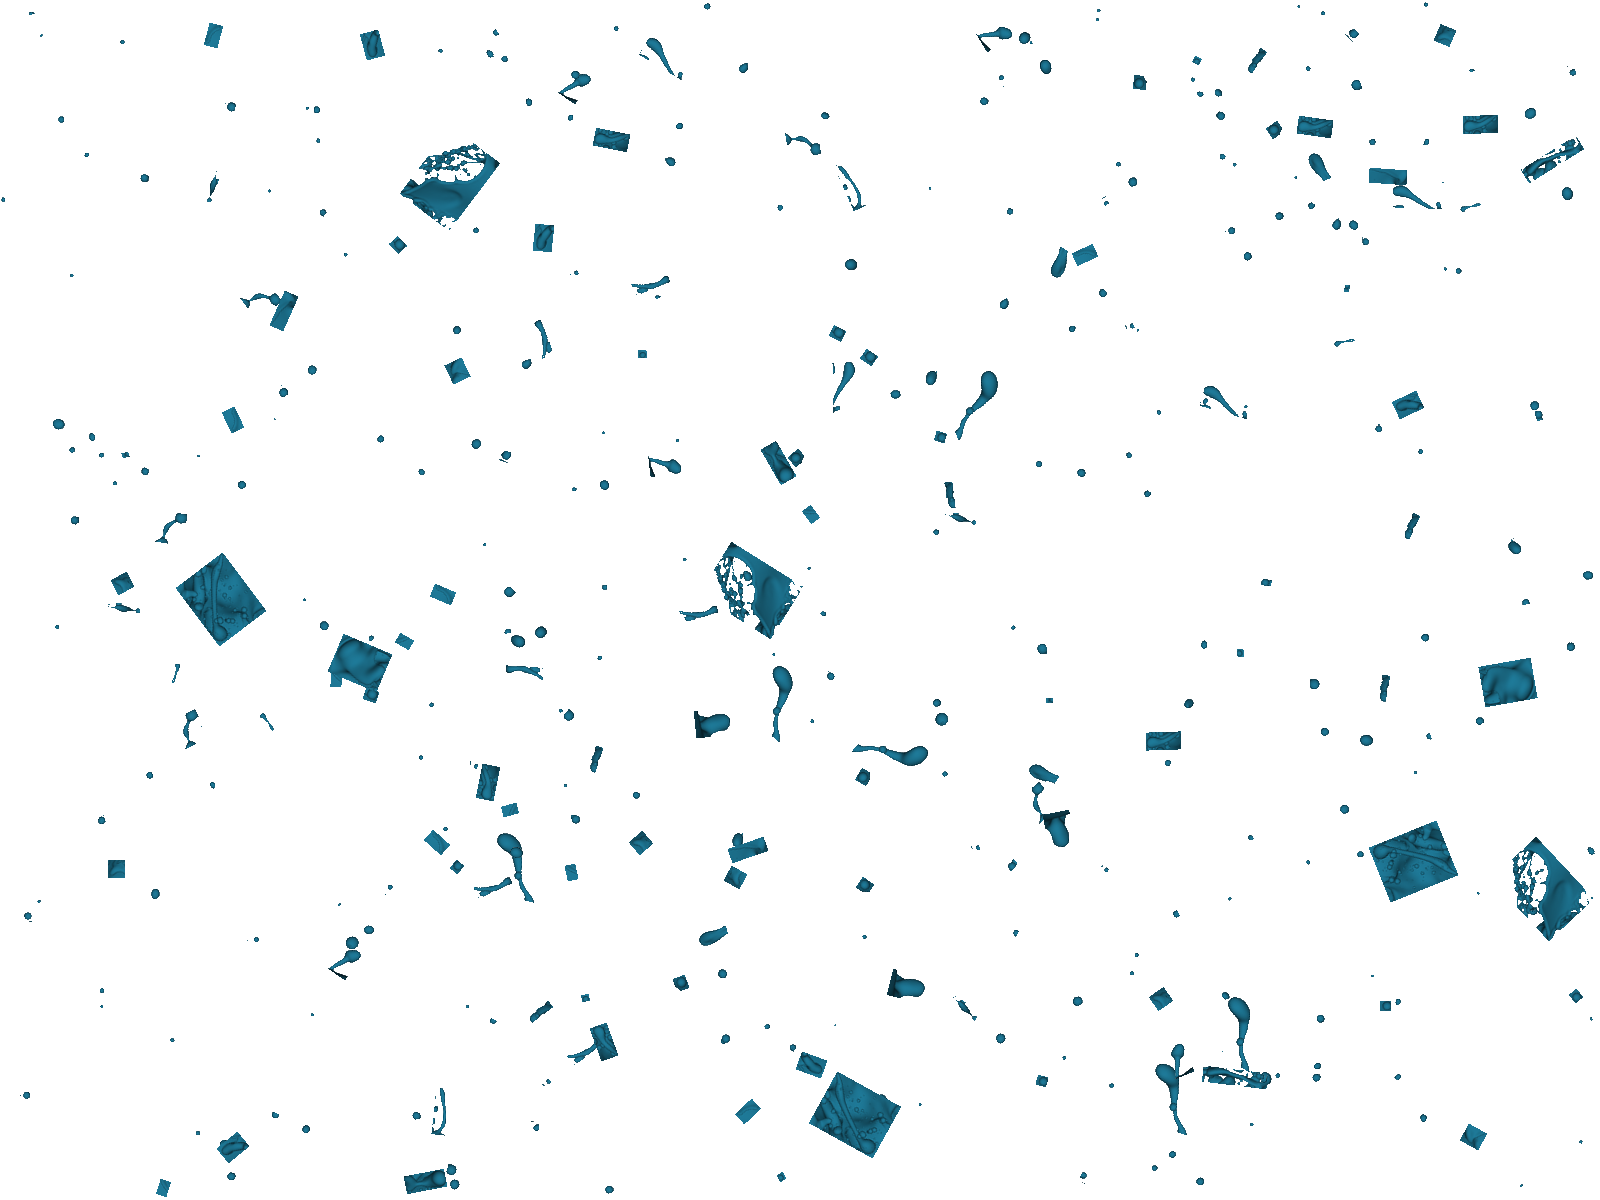Attached ligament: (175, 552, 267, 647), (808, 1071, 902, 1158), (1368, 821, 1459, 903), (1519, 135, 1585, 184), (323, 937, 365, 981), (553, 61, 595, 105), (973, 13, 1017, 53), (760, 440, 797, 487), (1201, 1065, 1269, 1090), (1157, 1039, 1196, 1082), (403, 1168, 449, 1195), (590, 1022, 619, 1063), (648, 447, 685, 478), (215, 1131, 249, 1163), (475, 763, 501, 802), (1391, 389, 1425, 420), (592, 127, 631, 153), (795, 1051, 828, 1079), (1296, 115, 1334, 139), (359, 29, 386, 61), (1461, 113, 1499, 135), (1145, 731, 1182, 751), (532, 223, 556, 253), (1243, 47, 1267, 76), (527, 1000, 554, 1024), (1401, 512, 1421, 541), (587, 745, 603, 774), (1377, 674, 1391, 703), (944, 482, 956, 511)
Detached ligament: (849, 712, 935, 797), (740, 659, 824, 745), (1203, 989, 1283, 1074), (937, 366, 1019, 444), (1136, 1058, 1212, 1137), (483, 827, 554, 904), (637, 34, 704, 87), (1199, 383, 1265, 424), (1017, 782, 1061, 824), (239, 279, 283, 321), (833, 159, 867, 212), (169, 708, 210, 751), (1392, 184, 1455, 211), (831, 362, 857, 424), (563, 1032, 603, 1069), (1043, 246, 1077, 287), (1020, 756, 1060, 792), (469, 871, 513, 901), (154, 509, 188, 547), (784, 126, 821, 160), (627, 268, 671, 297), (528, 319, 556, 363), (1301, 145, 1332, 185), (675, 599, 719, 625), (690, 925, 731, 952), (431, 1084, 451, 1136), (947, 995, 981, 1024), (505, 666, 548, 681), (1330, 330, 1356, 353), (1456, 195, 1482, 218), (254, 710, 280, 732), (944, 511, 976, 527), (205, 170, 220, 203), (108, 603, 140, 615), (169, 662, 184, 684)
bag: (1490, 836, 1595, 942), (399, 125, 501, 232), (698, 541, 804, 640), (328, 633, 393, 693), (1478, 657, 1538, 708), (886, 968, 931, 1005), (1042, 809, 1077, 853), (693, 707, 734, 739)
drop: (527, 620, 553, 645), (43, 411, 68, 436), (1010, 26, 1037, 50), (506, 629, 530, 655), (986, 1025, 1010, 1047), (871, 1090, 894, 1113), (441, 1171, 464, 1194), (1255, 1068, 1277, 1090), (341, 930, 364, 953), (1557, 183, 1579, 205), (1066, 993, 1087, 1015), (1357, 730, 1378, 750), (1504, 537, 1524, 558), (388, 234, 408, 255), (854, 766, 874, 787), (855, 876, 876, 896), (787, 447, 808, 468), (1265, 120, 1285, 140), (559, 708, 580, 729), (496, 582, 517, 603), (859, 348, 879, 367), (1518, 106, 1538, 125), (1179, 695, 1199, 713), (1119, 447, 1139, 466), (925, 522, 944, 542), (1524, 397, 1546, 415), (828, 324, 847, 343), (671, 974, 690, 993), (1344, 216, 1363, 234), (1414, 629, 1432, 648), (1189, 1174, 1208, 1192), (60, 441, 79, 460), (246, 932, 265, 950), (315, 616, 335, 634), (932, 708, 950, 729), (1038, 55, 1054, 77), (362, 687, 380, 705), (1311, 1007, 1329, 1026), (465, 222, 484, 239), (1144, 1158, 1162, 1177), (1337, 800, 1353, 821), (842, 255, 858, 275), (430, 151, 450, 168), (568, 808, 585, 828), (1469, 711, 1487, 729), (1094, 286, 1111, 304), (215, 1136, 233, 1153), (1561, 892, 1579, 910), (994, 71, 1012, 88), (1414, 444, 1431, 461), (443, 1163, 461, 1181), (1346, 76, 1363, 93), (1328, 216, 1346, 233), (66, 511, 84, 527), (1306, 1068, 1323, 1087), (508, 845, 527, 861), (923, 368, 940, 387), (729, 831, 746, 850), (1561, 638, 1577, 655), (1211, 108, 1228, 125), (273, 383, 291, 400), (1449, 261, 1465, 279), (714, 964, 731, 982), (592, 478, 611, 493), (469, 437, 484, 456), (888, 384, 903, 403), (716, 1031, 734, 1046), (600, 1180, 616, 1196), (1157, 755, 1173, 771), (19, 1087, 35, 1103), (233, 478, 249, 494), (449, 858, 465, 875), (997, 296, 1013, 313), (1344, 26, 1361, 43), (663, 153, 678, 170), (304, 363, 323, 377), (975, 92, 991, 107), (1028, 456, 1044, 471), (566, 67, 582, 82), (1072, 465, 1089, 480), (1317, 725, 1332, 741), (929, 695, 944, 711), (374, 431, 389, 447), (142, 768, 157, 784), (816, 106, 831, 122), (1569, 988, 1584, 1005), (1299, 61, 1315, 76), (1033, 639, 1048, 655), (1125, 174, 1141, 189), (736, 61, 752, 76), (1225, 223, 1240, 238), (1237, 397, 1252, 412), (137, 465, 152, 480), (554, 703, 569, 718), (540, 1076, 556, 1092), (740, 568, 755, 584), (498, 449, 513, 464), (1167, 909, 1182, 924), (1581, 567, 1595, 584), (362, 921, 375, 938), (1309, 678, 1323, 695), (1058, 1049, 1072, 1065), (408, 1107, 423, 1121), (147, 887, 163, 901), (1524, 904, 1540, 918), (1271, 209, 1286, 223), (629, 789, 644, 803), (760, 1018, 774, 1034), (93, 814, 108, 828), (1077, 1170, 1091, 1185), (268, 1111, 282, 1126), (1517, 592, 1531, 608), (1133, 76, 1146, 89), (416, 468, 430, 482), (52, 115, 66, 129), (1240, 248, 1254, 262), (223, 1170, 237, 1184), (223, 100, 237, 113), (299, 1123, 312, 1137), (94, 450, 108, 464), (1007, 926, 1020, 940), (1521, 688, 1534, 702), (488, 28, 501, 42), (934, 430, 947, 444), (1036, 1074, 1049, 1088), (1561, 884, 1575, 897), (84, 430, 98, 444), (1584, 845, 1597, 858), (1097, 195, 1111, 209), (1005, 858, 1019, 872), (1359, 234, 1372, 250), (338, 247, 353, 260), (139, 170, 152, 183), (1352, 845, 1364, 858), (384, 882, 397, 896), (1220, 987, 1232, 1001), (486, 1017, 500, 1030), (96, 982, 108, 996), (1508, 689, 1521, 703), (305, 1010, 317, 1024), (824, 1092, 837, 1105), (483, 48, 496, 61), (824, 671, 837, 684), (1099, 862, 1111, 876), (568, 267, 581, 281), (1390, 996, 1403, 1008), (1124, 321, 1136, 335), (1091, 13, 1104, 26), (477, 538, 491, 551), (520, 358, 534, 371), (496, 50, 509, 63), (1140, 488, 1153, 500), (316, 205, 329, 218), (1304, 200, 1317, 213), (786, 1040, 799, 1053), (1380, 1000, 1392, 1012), (1289, 169, 1301, 182), (1187, 73, 1199, 86), (858, 932, 871, 944), (1197, 638, 1209, 650), (1483, 672, 1495, 684), (1167, 1150, 1180, 1161), (816, 608, 830, 619), (207, 779, 218, 793), (1194, 86, 1206, 100), (1153, 407, 1165, 418), (438, 823, 451, 834), (425, 700, 437, 711), (1367, 137, 1380, 149), (1005, 205, 1017, 218), (1213, 84, 1225, 97), (523, 97, 534, 110), (1417, 1113, 1429, 1126), (1112, 156, 1124, 169), (81, 150, 92, 163), (609, 23, 621, 34), (593, 653, 605, 666), (767, 648, 779, 661), (299, 592, 310, 605), (261, 185, 273, 197), (96, 1003, 108, 1015), (1439, 263, 1451, 275), (1575, 1136, 1586, 1148), (939, 766, 951, 778), (598, 584, 611, 595), (1372, 424, 1385, 435), (776, 1171, 787, 1184), (970, 843, 981, 856), (1260, 576, 1272, 587), (1419, 137, 1432, 147), (1390, 1071, 1403, 1082), (21, 910, 33, 921), (451, 325, 462, 337), (110, 478, 121, 489), (52, 621, 63, 633), (804, 563, 815, 575), (1008, 621, 1019, 633), (467, 761, 479, 773), (66, 270, 77, 281), (1218, 153, 1230, 164), (312, 103, 323, 116), (671, 121, 684, 131), (365, 632, 375, 644), (911, 1099, 923, 1109), (1191, 55, 1203, 66), (530, 1121, 540, 1133), (1199, 395, 1209, 407), (1066, 325, 1077, 335), (702, 3, 713, 13), (1310, 1061, 1322, 1071), (1303, 856, 1313, 867), (1133, 321, 1143, 333), (1128, 968, 1138, 979), (34, 897, 45, 908), (1225, 892, 1235, 904), (333, 897, 343, 909), (1514, 1179, 1524, 1190), (1131, 949, 1141, 961), (679, 555, 690, 565), (1246, 1119, 1257, 1129), (1534, 410, 1545, 421), (774, 203, 784, 214), (563, 113, 576, 122), (1107, 1082, 1117, 1092), (166, 1035, 176, 1045), (1318, 9, 1328, 19), (1291, 1, 1301, 11), (268, 415, 278, 425), (1471, 890, 1482, 900), (435, 45, 445, 55), (1245, 834, 1256, 843), (808, 715, 816, 726), (671, 437, 683, 446), (1567, 66, 1576, 77), (1424, 731, 1432, 742), (417, 753, 426, 763), (1272, 1071, 1283, 1080), (501, 625, 511, 634), (559, 782, 569, 790), (302, 105, 312, 113), (1024, 37, 1034, 45), (829, 1018, 838, 1029), (923, 185, 934, 194), (1421, 0, 1430, 10), (1236, 648, 1245, 658), (26, 8, 37, 16), (653, 291, 663, 300), (37, 33, 47, 42), (194, 1129, 203, 1138), (1410, 768, 1419, 776), (1230, 160, 1238, 169), (597, 429, 606, 437), (1094, 8, 1104, 15), (315, 136, 323, 146), (0, 195, 8, 205), (1437, 176, 1448, 184), (1044, 697, 1054, 705), (637, 350, 648, 358), (462, 1005, 470, 1013), (118, 38, 126, 47), (1343, 284, 1351, 292), (121, 451, 130, 459), (581, 995, 590, 1002), (1468, 66, 1477, 73), (1367, 973, 1374, 982), (569, 487, 580, 493), (1585, 1016, 1592, 1024), (195, 454, 202, 463)
lobe: (270, 290, 299, 332), (727, 836, 769, 863), (1368, 166, 1409, 187), (1459, 1123, 1488, 1151), (443, 357, 471, 384), (734, 1098, 762, 1124), (423, 829, 451, 856), (1148, 986, 1174, 1012), (627, 829, 654, 856), (1071, 243, 1099, 267), (220, 406, 244, 434), (110, 571, 135, 596), (723, 865, 748, 890), (430, 584, 457, 606), (1432, 23, 1456, 48), (203, 21, 224, 49), (801, 504, 821, 524), (394, 632, 414, 650), (107, 858, 126, 879), (155, 1179, 173, 1197), (500, 802, 520, 818), (564, 863, 580, 882), (330, 671, 343, 688)
